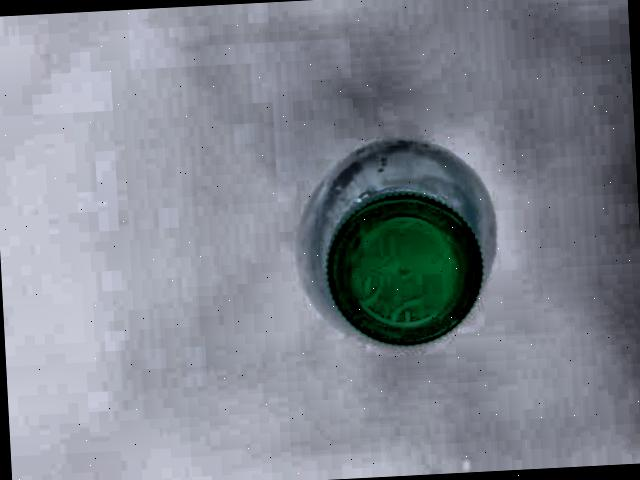Plastic: (306, 131, 495, 350)
